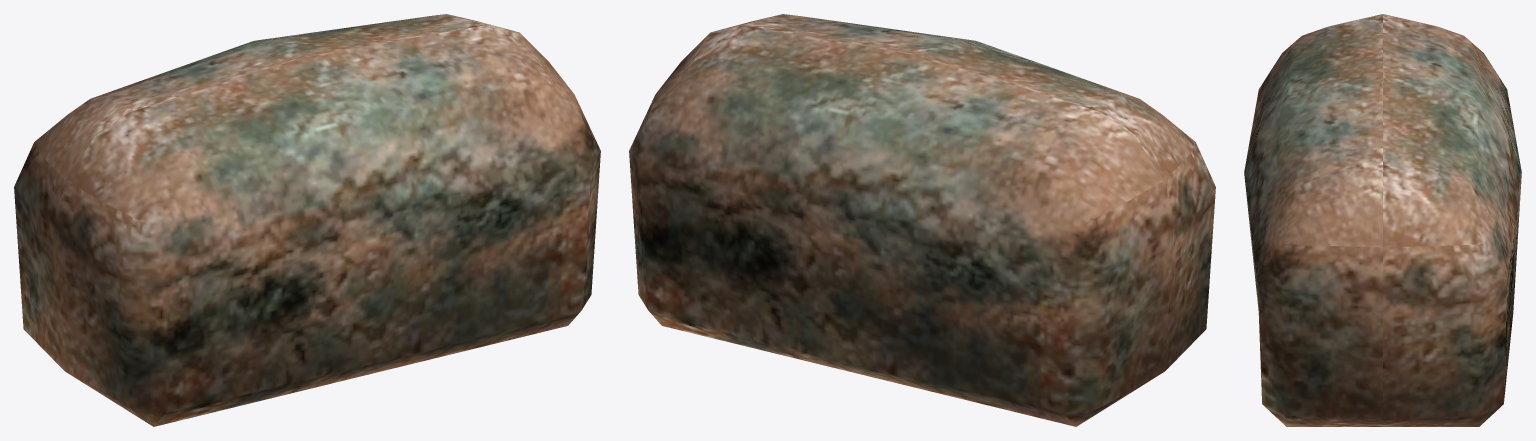
The model's file is bread_rotten.dae.
3 views of the same model, side by side, from view 1: azimuth 30°, elevation 25°; view 2: azimuth 150°, elevation 25°; view 3: azimuth 270°, elevation 25° (orthographic). The views are drawn at different scales.
Parts seen in each view (by area): view 1: headusOBJexport; view 2: headusOBJexport; view 3: headusOBJexport.
Boxes of the visible parts, bbox=[...] form: headusOBJexport: bbox=[14, 14, 600, 426]; headusOBJexport: bbox=[629, 14, 1215, 426]; headusOBJexport: bbox=[1244, 14, 1521, 426].
Size of the model in its own units: 0.3159 by 0.1689 by 0.1676.
